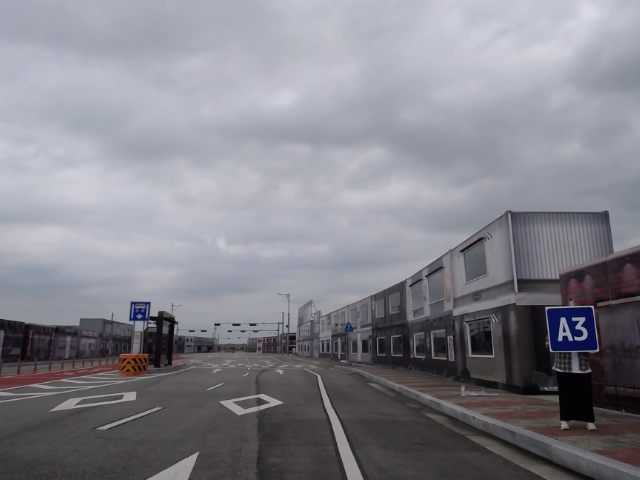delivery_a3: (546, 307, 599, 352)
